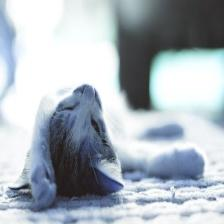kedo: (32, 82, 203, 203)
